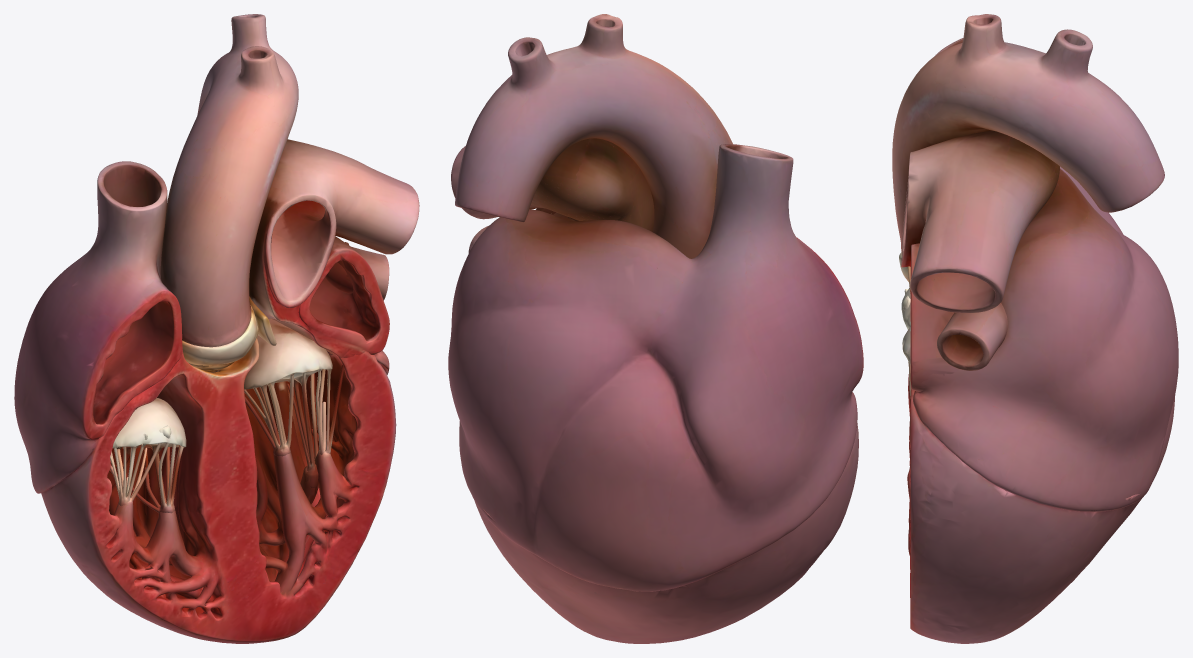
The model's file is heart-interactive-lod.glb.
3 renders of one model, left to right at view 1: azimuth 30°, elevation 25°; view 2: azimuth 150°, elevation 25°; view 3: azimuth 270°, elevation 25°, orthographic. The views are drawn at different scales.
Parts seen in each view (by area): view 1: part_6, part_5, part_1, part_4, part_9, part_7, part_8, part_2, part_3; view 2: part_5, part_1, part_6, part_4; view 3: part_5, part_1, part_6, part_4, part_7.
Part boxes in pixels (left/top/right/bottom): part_6: left=41, top=337, right=396, bottom=643; part_5: left=14, top=161, right=389, bottom=493; part_1: left=160, top=14, right=298, bottom=347; part_4: left=249, top=139, right=419, bottom=322; part_9: left=219, top=318, right=344, bottom=487; part_7: left=271, top=236, right=389, bottom=357; part_8: left=109, top=425, right=183, bottom=513; part_2: left=109, top=398, right=186, bottom=474; part_3: left=182, top=305, right=258, bottom=372; part_5: left=448, top=144, right=863, bottom=591; part_1: left=455, top=14, right=732, bottom=258; part_6: left=474, top=423, right=858, bottom=643; part_4: left=451, top=138, right=654, bottom=231; part_5: left=907, top=38, right=1178, bottom=511; part_1: left=892, top=14, right=1164, bottom=251; part_6: left=907, top=374, right=1141, bottom=643; part_4: left=901, top=130, right=1059, bottom=312; part_7: left=910, top=243, right=1007, bottom=391.
Bounding box in the file's own units: 0.7523 × 1.16 × 0.4811.
Materials: 1 (1 with a texture image).
